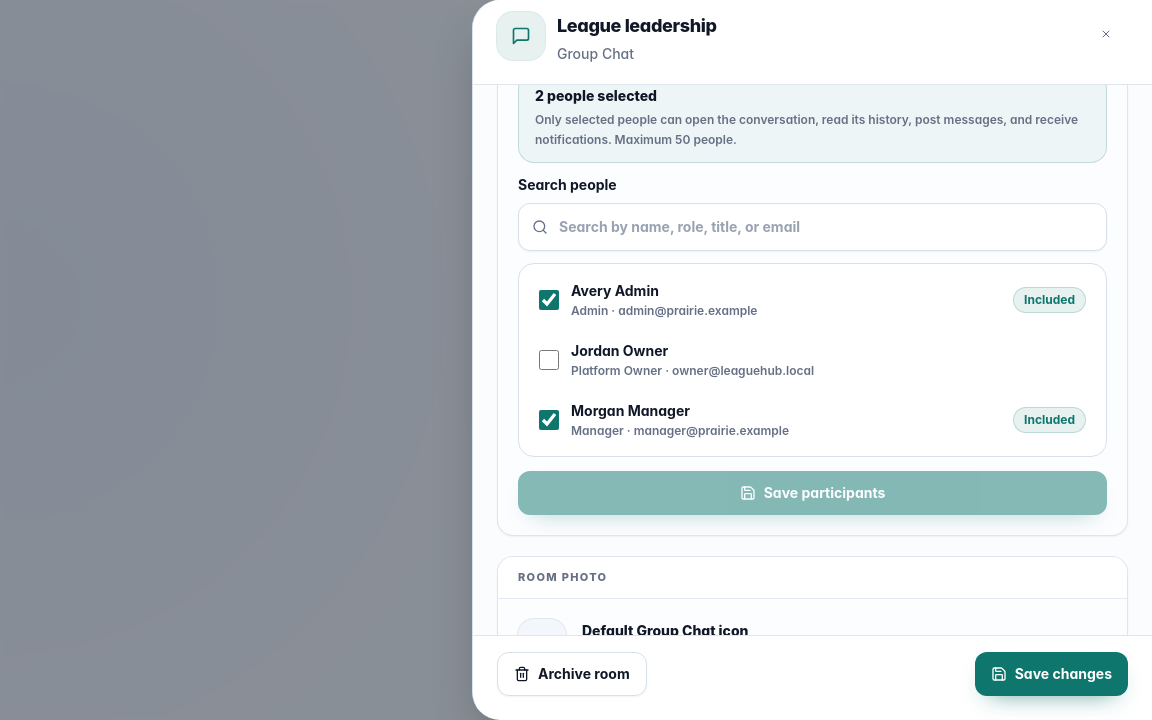
AdminApp operations shell › lets Admin Portal users manage Group Chat participants without exposing messages
(page scrolled)
Expected: the checkbox labelled "Avery Admin Admin · admin@prairie.example Included" is shown, [539,290,559,310]
Expected: the checkbox labelled "Morgan Manager Manager · manager@prairie.example Included" is shown, [539,410,559,430]
Click the checkbox labelled "Jordan Owner Platform Owner · owner@leaguehub.local" at (549, 360), box [539,350,559,370]
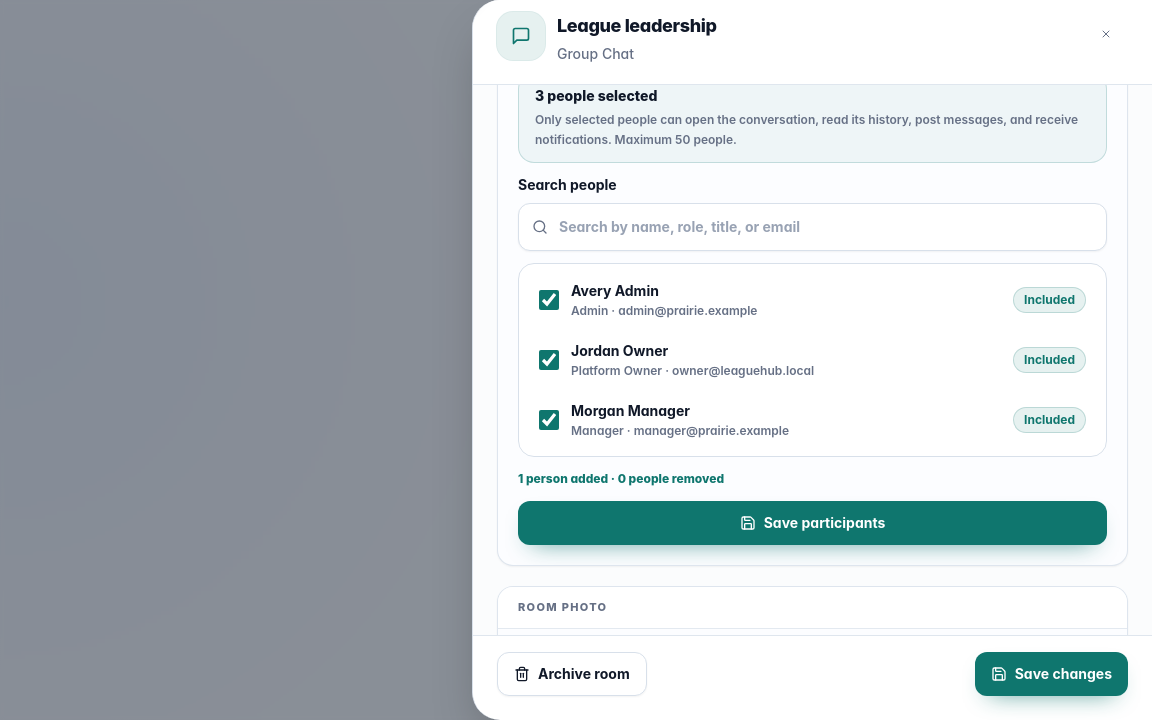
Click the button "Save participants" at (812, 523), box [518,501,1107,545]
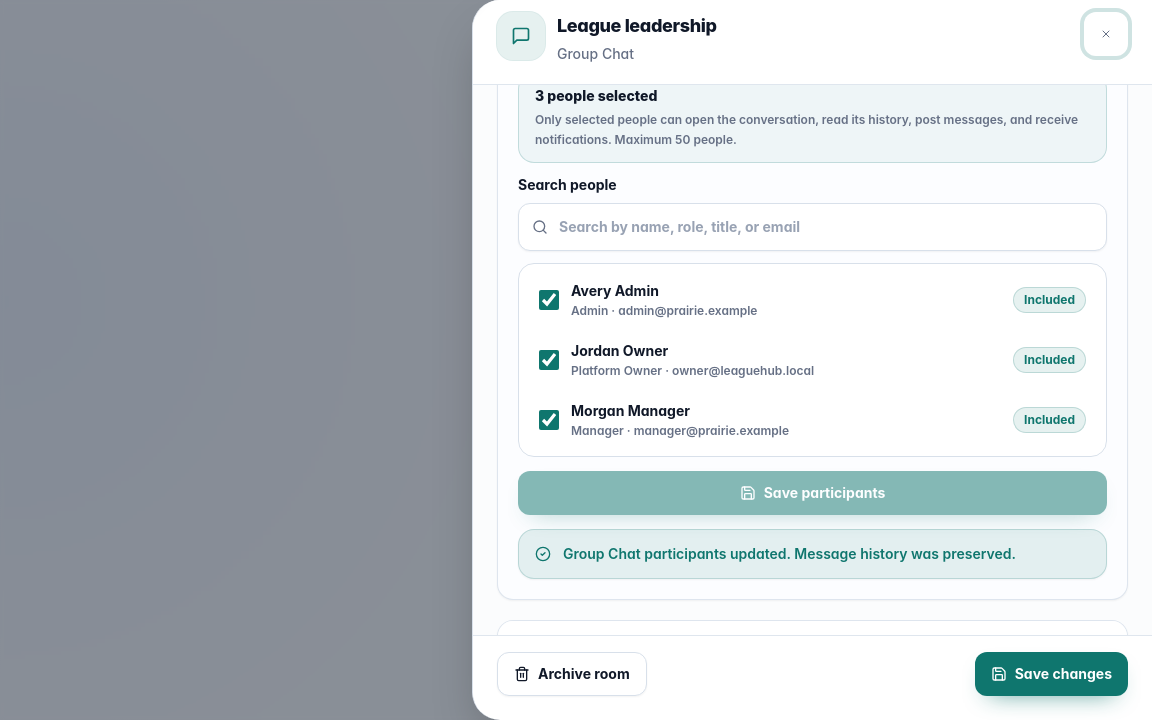
Result: the text "participants updated" is shown at [563,545,1016,562]
